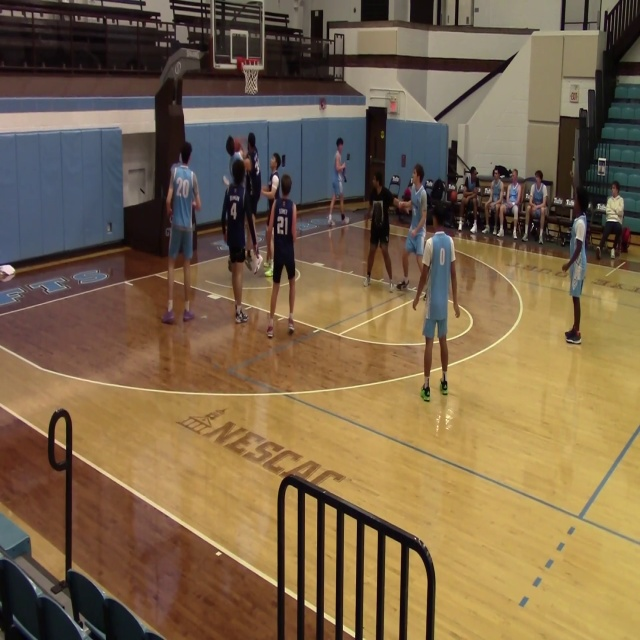Basketball: (231, 159, 245, 181), (226, 136, 241, 155), (280, 174, 292, 194), (0, 264, 15, 276), (398, 201, 411, 213), (226, 136, 234, 155), (233, 139, 242, 152)
